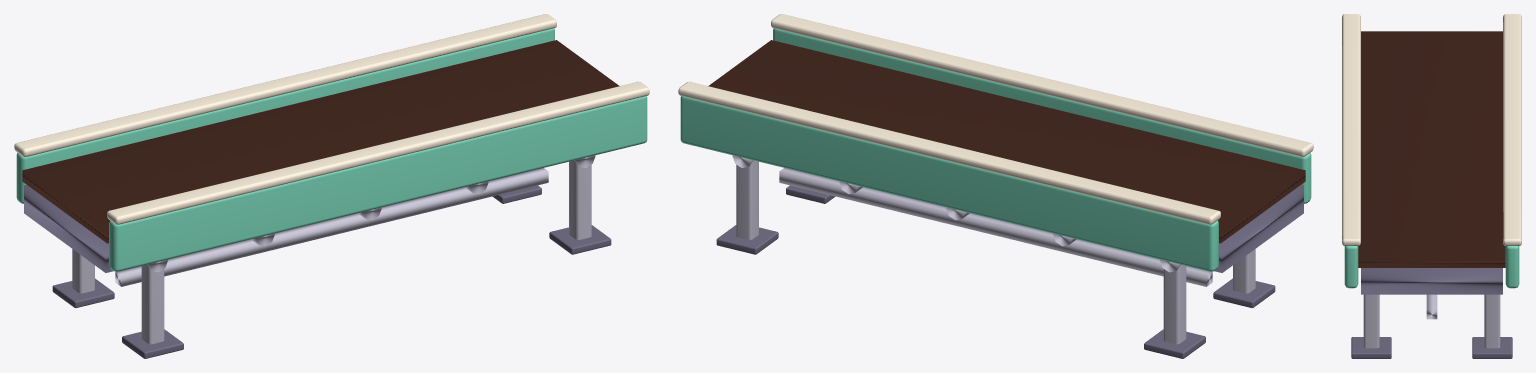
File: candy_conveyor.glb
3 views of the same model, side by side, from view 1: azimuth 30°, elevation 25°; view 2: azimuth 150°, elevation 25°; view 3: azimuth 270°, elevation 25° (orthographic). The views are drawn at different scales.
Parts seen in each view (by area): view 1: Conveyor; view 2: Conveyor; view 3: Conveyor.
Part boxes in pixels (<box>): Conveyor: <box>14,14,649,358</box>; Conveyor: <box>678,14,1313,358</box>; Conveyor: <box>1342,14,1521,358</box>.
Bounding box in the file's own units: 4 × 1.1 × 1.34.
